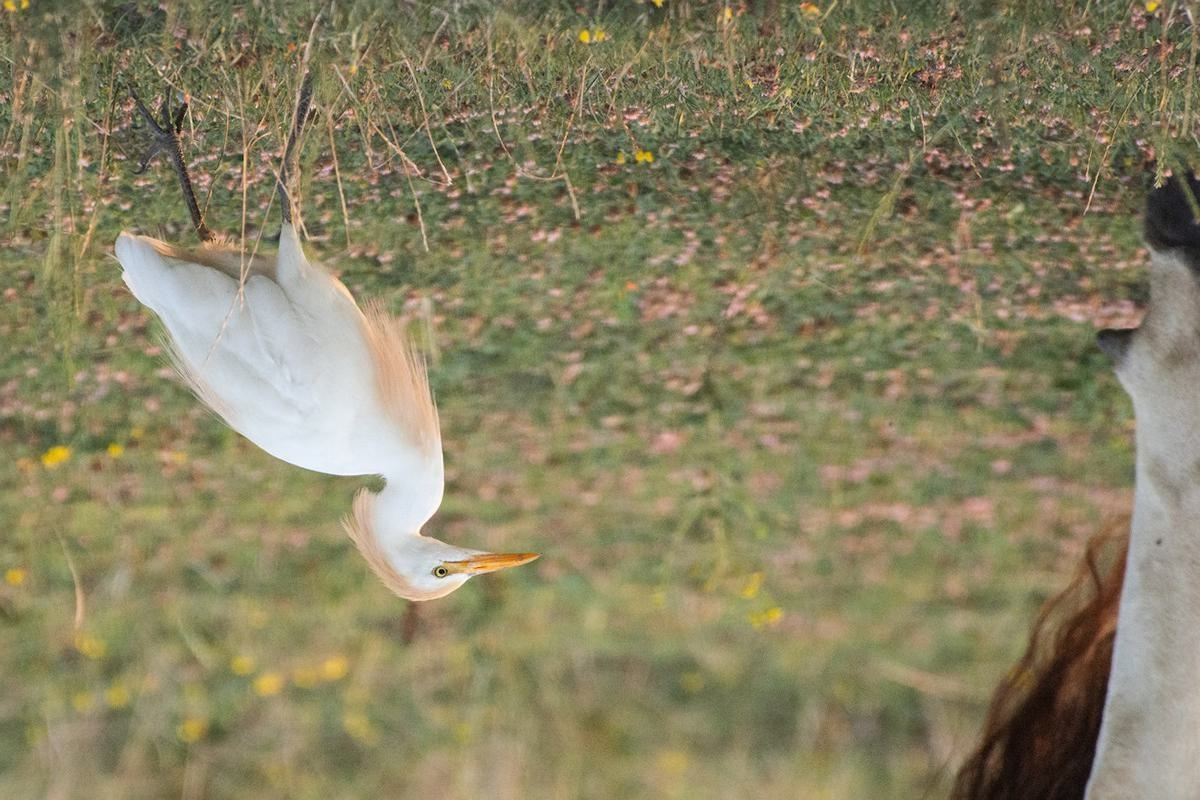egret: (95, 95, 539, 647)
